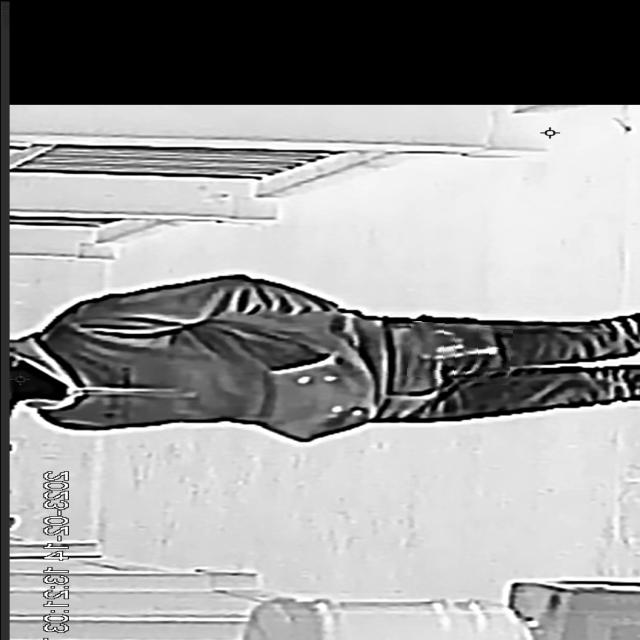Weapon: (408, 322, 512, 382)
